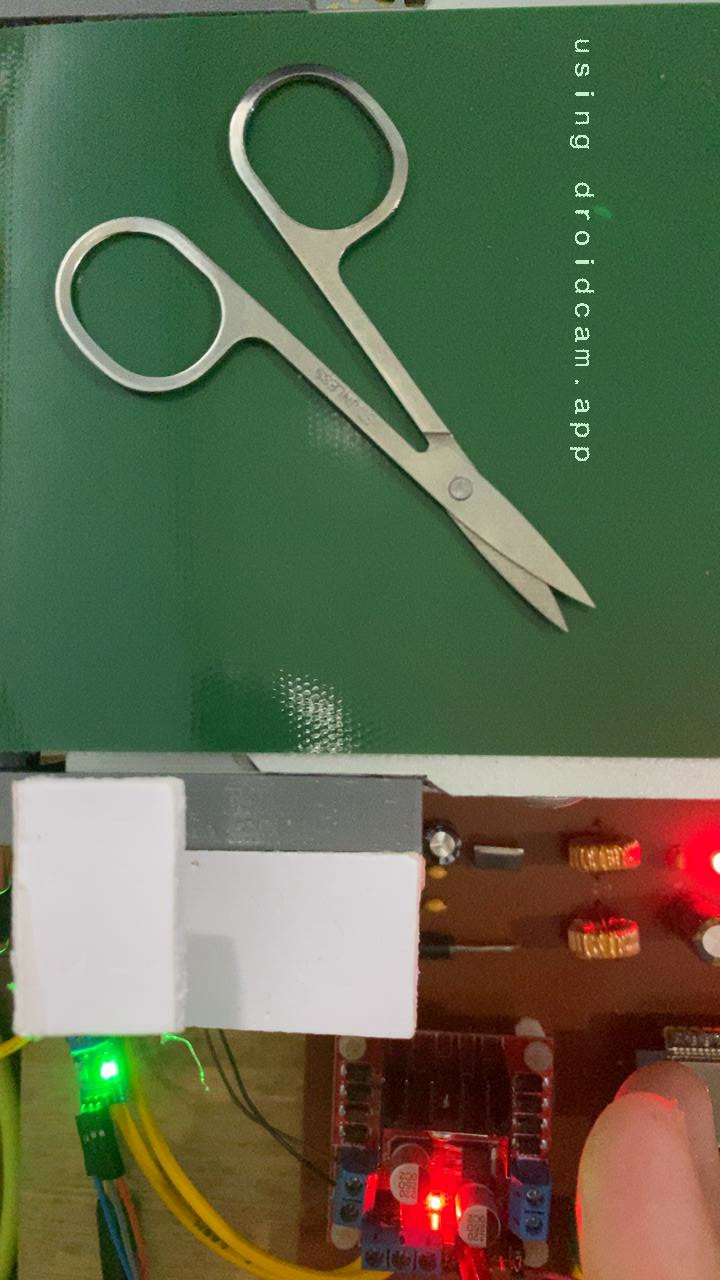scissor: (47, 61, 601, 637)
